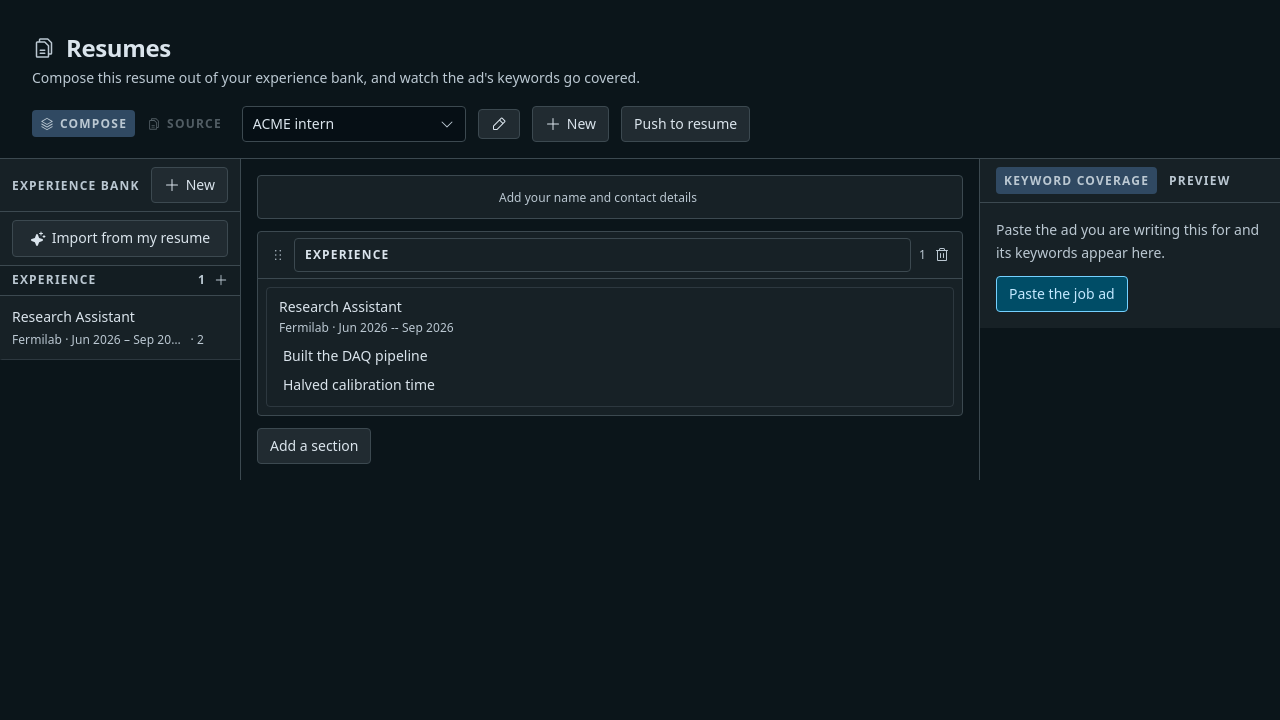
Test case: Builder / the coverage feedback loop › attaches a pasted ad to the draft
Expected: the field named "rename the experience section" is shown, [294,238,911,272]
Click the button "Paste the job ad" at [1062, 294], box [996,276,1128,312]
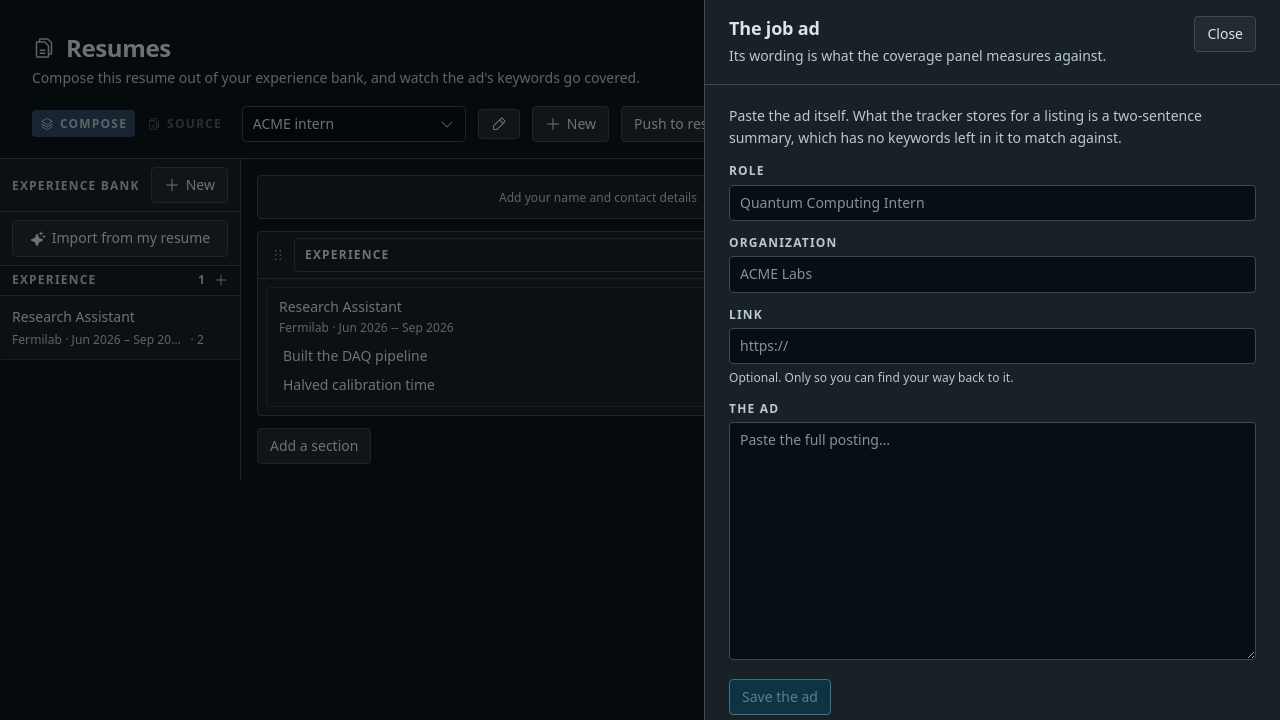
Type "Intern" into the field labelled "Role" at [992, 203], box [729,184,1256,221]
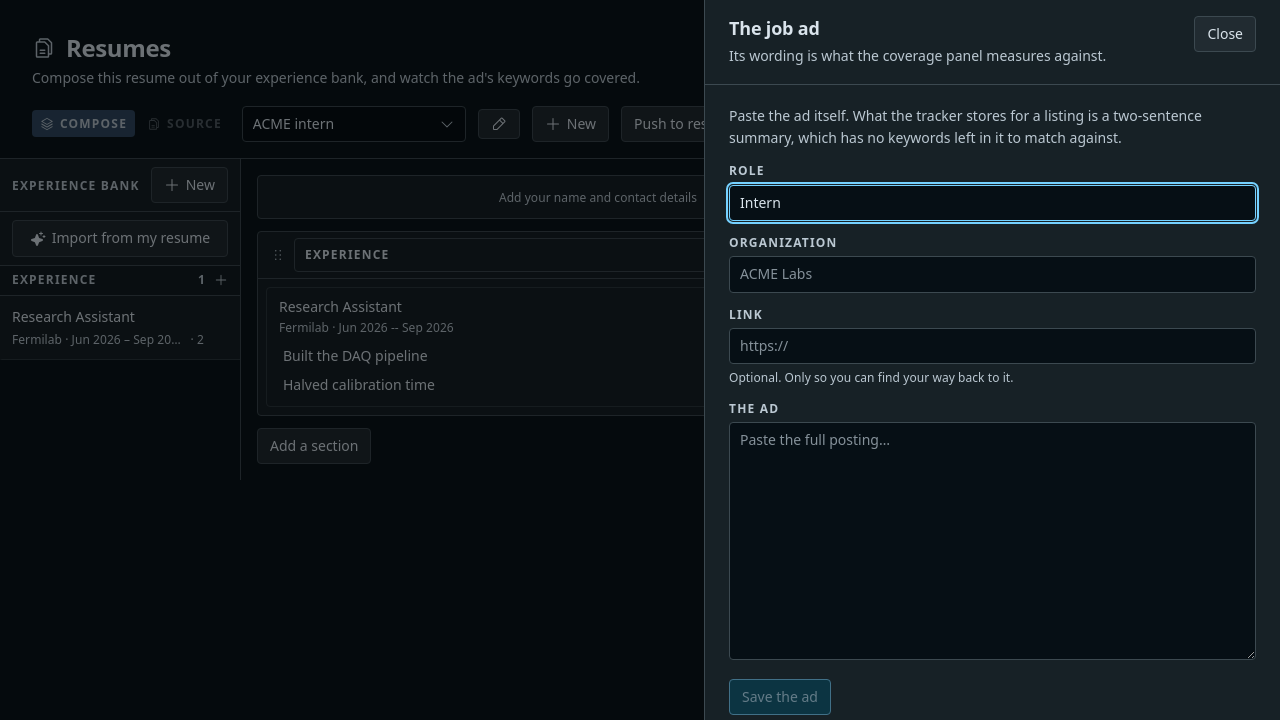
Type "We need Qiskit." into the text box labelled "The ad" at [992, 541], box [729,422,1256,660]
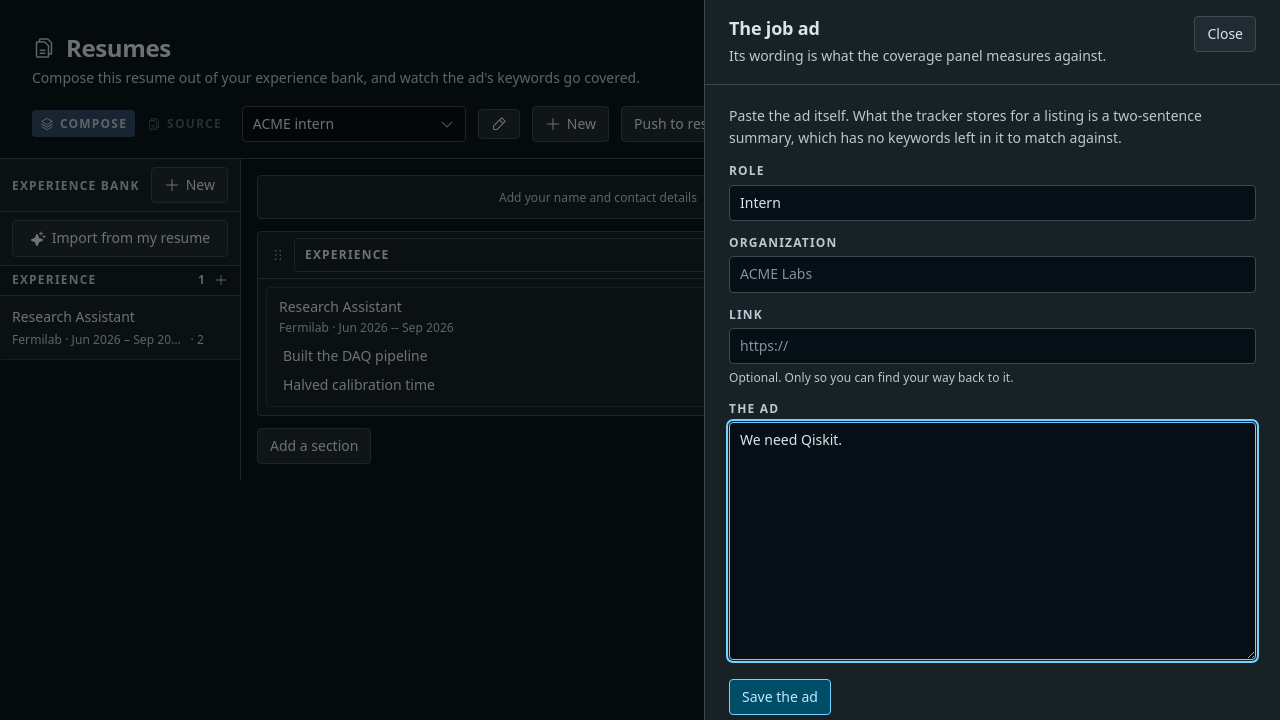
Click the button "Save the ad" at [780, 697], box [729,679,831,715]
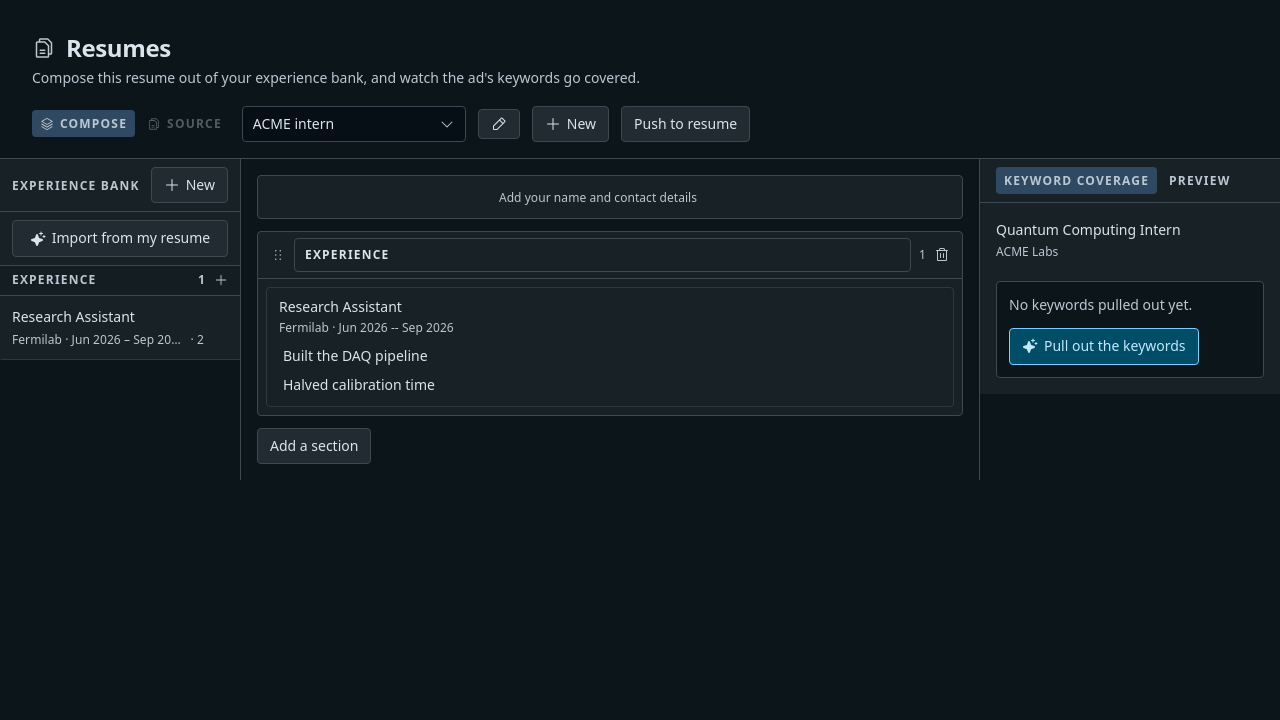
Now the dialog is gone
